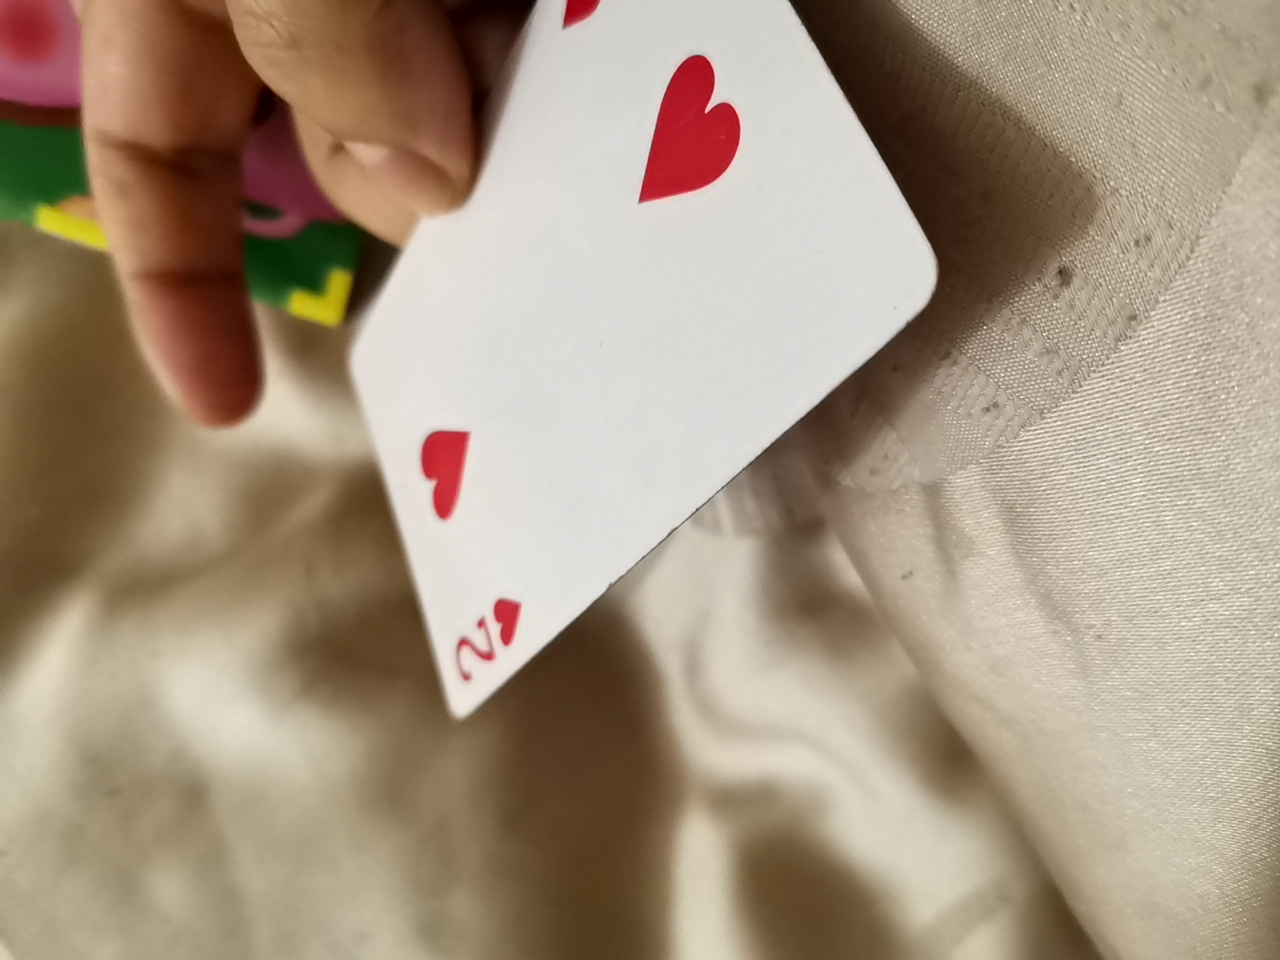hx 2: (292, 2, 959, 733)
